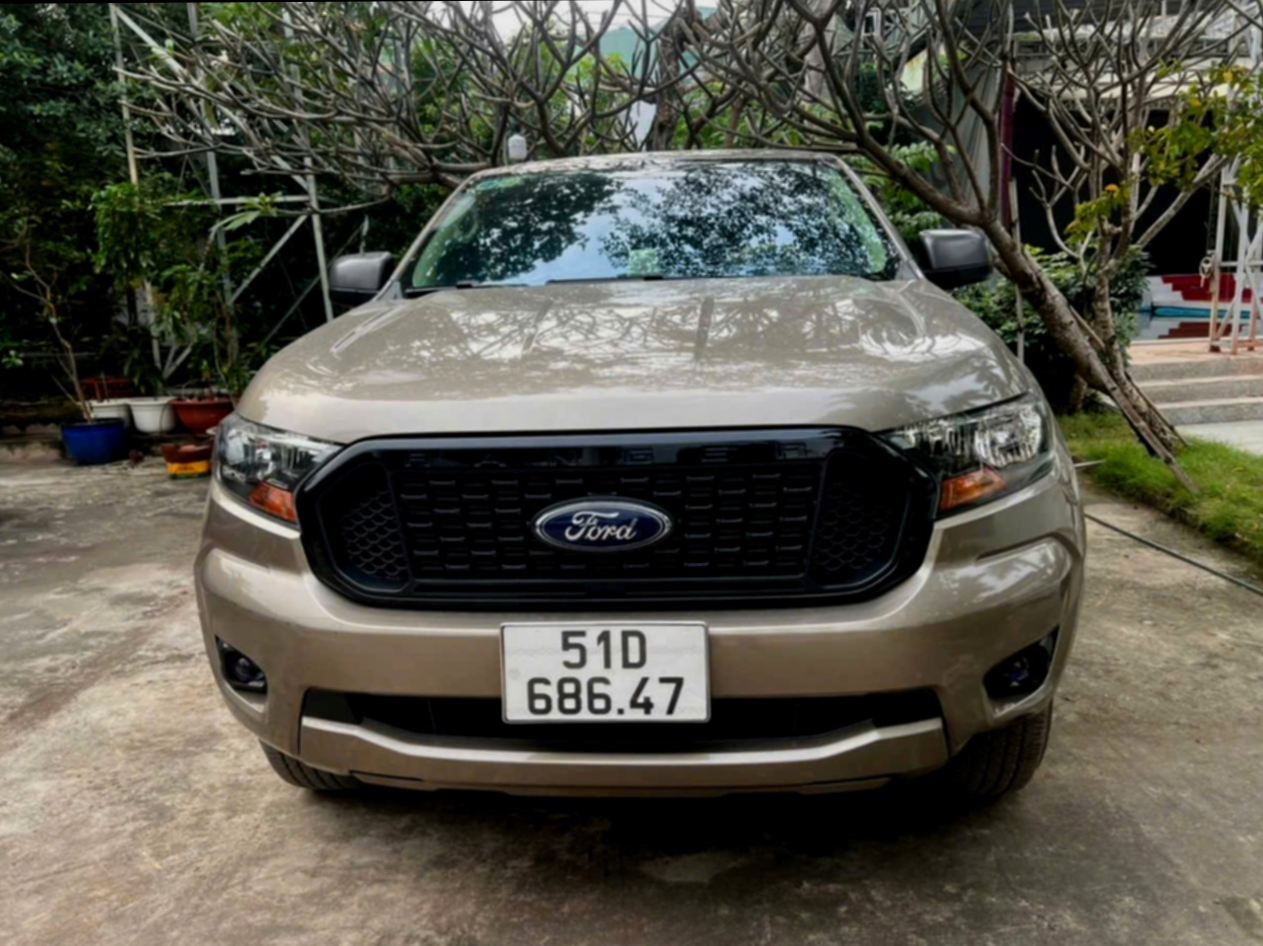Bien-so: (494, 624, 707, 725)
